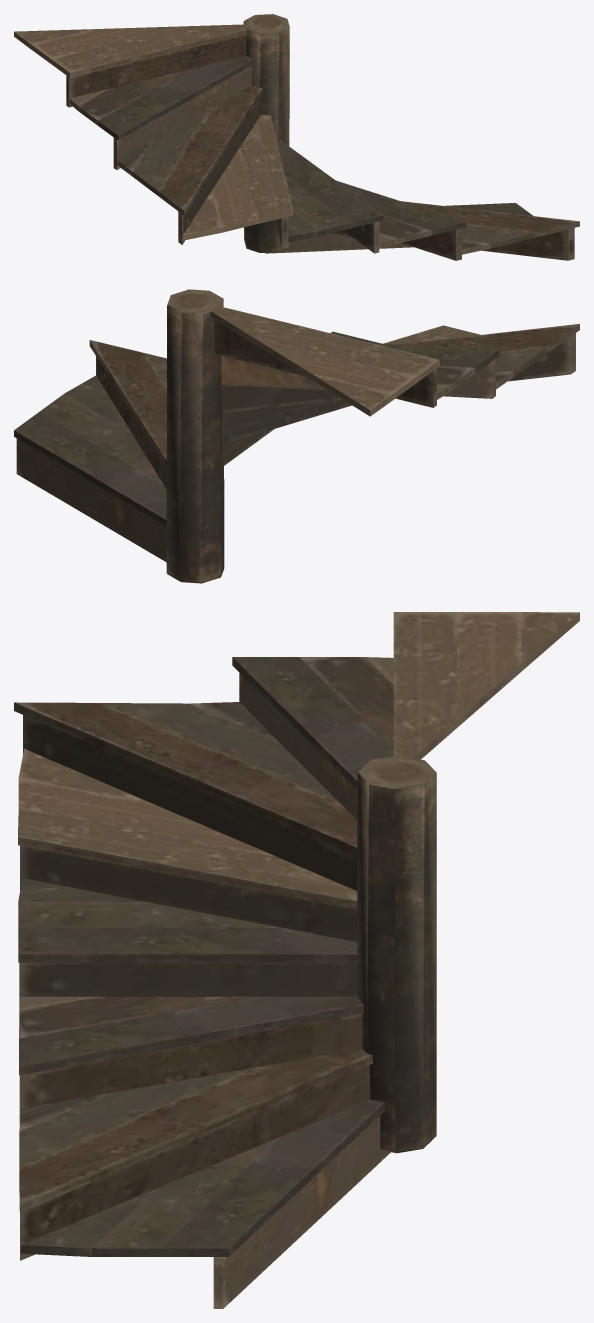
The model's file is block.stair.spiral.frontier.glb.
3 views of the same model, one above another, from view 1: azimuth 30°, elevation 25°; view 2: azimuth 150°, elevation 25°; view 3: azimuth 270°, elevation 25° (orthographic). The views are drawn at different scales.
Visible parts, largest first — view 1: stairs.spiral_LOD0; view 2: stairs.spiral_LOD0; view 3: stairs.spiral_LOD0.
Part boxes in pixels (<box>): stairs.spiral_LOD0: <box>14,14,579,260</box>; stairs.spiral_LOD0: <box>14,289,579,583</box>; stairs.spiral_LOD0: <box>14,612,579,1308</box>.
Bounding box in the file's own units: 2.84 × 1.55 × 2.11.
Materials: 1 (1 with a texture image).
